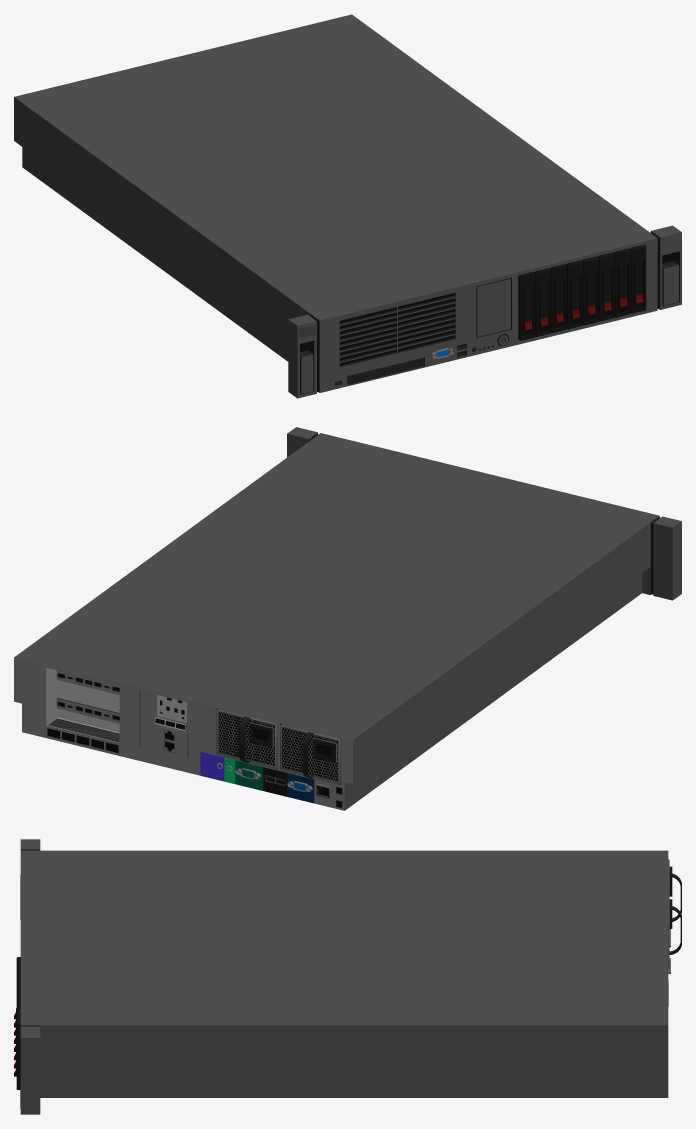
3 renders of one model, top to bottom at view 1: azimuth 30°, elevation 25°; view 2: azimuth 150°, elevation 25°; view 3: azimuth 270°, elevation 25°, orthographic. The views are drawn at different scales.
Visible parts, largest first — view 1: HPE_DL380_G5; view 2: HPE_DL380_G5; view 3: HPE_DL380_G5.
Boxes of the visible parts, x1,y1,x2,y2 form: HPE_DL380_G5: (14,14,681,398); HPE_DL380_G5: (14,427,681,810); HPE_DL380_G5: (14,839,681,1114).
Bounding box in the file's own units: 494 × 89 × 702.
Materials: 22 (1 with a texture image).
